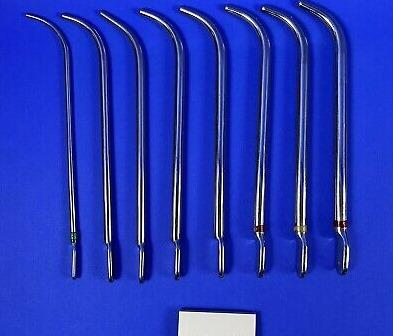Urethral Dilators: (249, 0, 328, 284), (284, 1, 363, 282), (57, 4, 126, 296), (169, 1, 239, 279), (214, 3, 284, 280), (135, 1, 198, 288), (22, 7, 85, 292), (95, 7, 158, 289)
